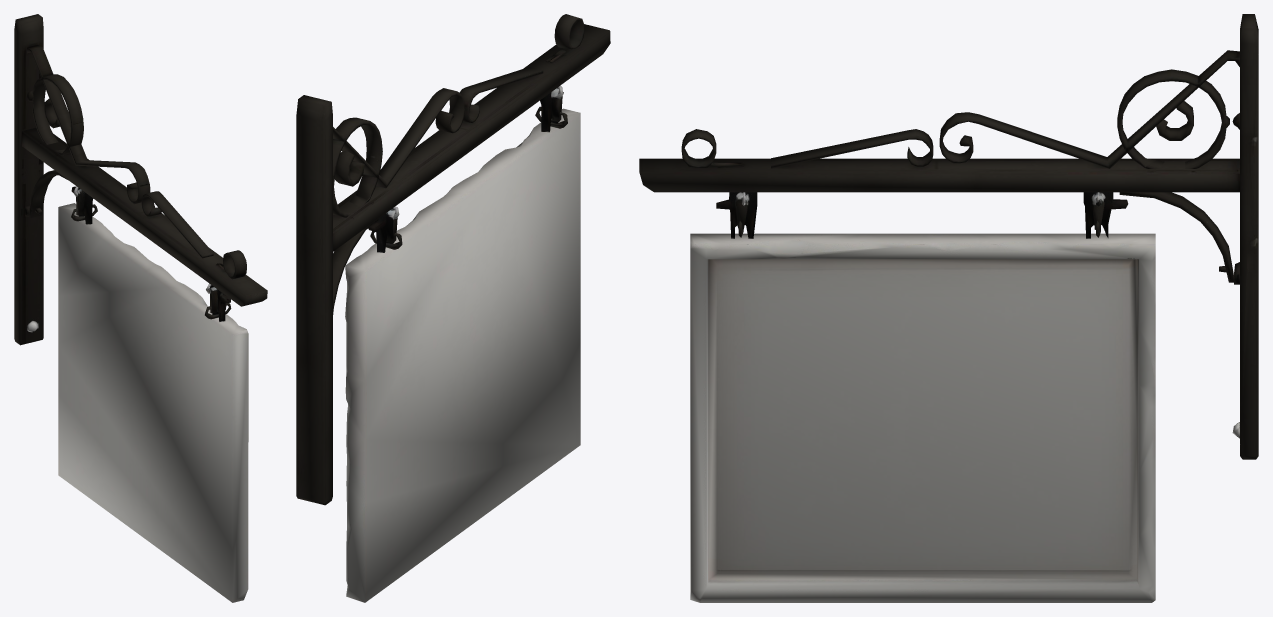
3 views of the same model, side by side, from view 1: azimuth 30°, elevation 25°; view 2: azimuth 150°, elevation 25°; view 3: azimuth 270°, elevation 25° (orthographic). The views are drawn at different scales.
Parts seen in each view (by area): view 1: tripo_node_562faa43-22d4-486a-ac1b-b2f4ffae5697; view 2: tripo_node_562faa43-22d4-486a-ac1b-b2f4ffae5697; view 3: tripo_node_562faa43-22d4-486a-ac1b-b2f4ffae5697.
Boxes of the visible parts, x1,y1,x2,y2 form: tripo_node_562faa43-22d4-486a-ac1b-b2f4ffae5697: (14,14,267,602); tripo_node_562faa43-22d4-486a-ac1b-b2f4ffae5697: (296,14,610,602); tripo_node_562faa43-22d4-486a-ac1b-b2f4ffae5697: (639,14,1258,602).
Bounding box in the file's own units: 0.0645 × 0.998 × 0.9746.
1 material, 1 textured.
